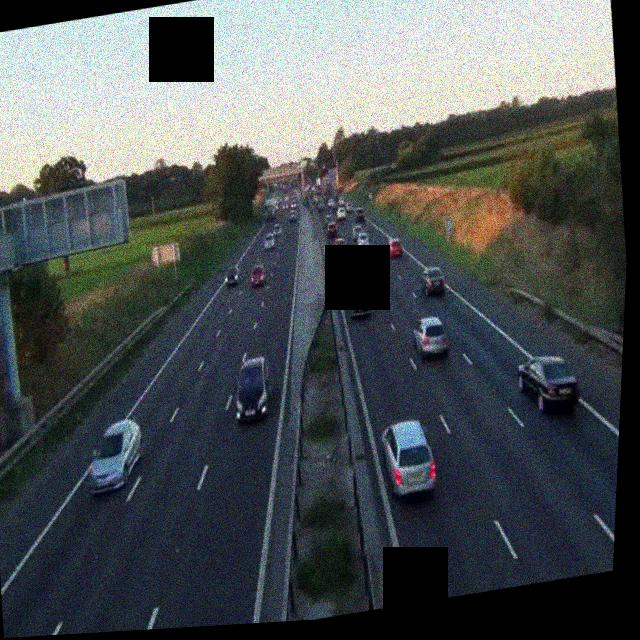car: (377, 415, 440, 502), (83, 416, 148, 495), (515, 349, 582, 416), (230, 356, 275, 423), (410, 313, 450, 360), (416, 264, 447, 298), (347, 284, 372, 318), (249, 263, 268, 287), (385, 233, 404, 257), (224, 265, 241, 287), (331, 240, 348, 260), (354, 229, 370, 249), (324, 220, 339, 238), (264, 231, 278, 249), (353, 207, 365, 222), (288, 207, 297, 221)
truck: (265, 197, 279, 220)
